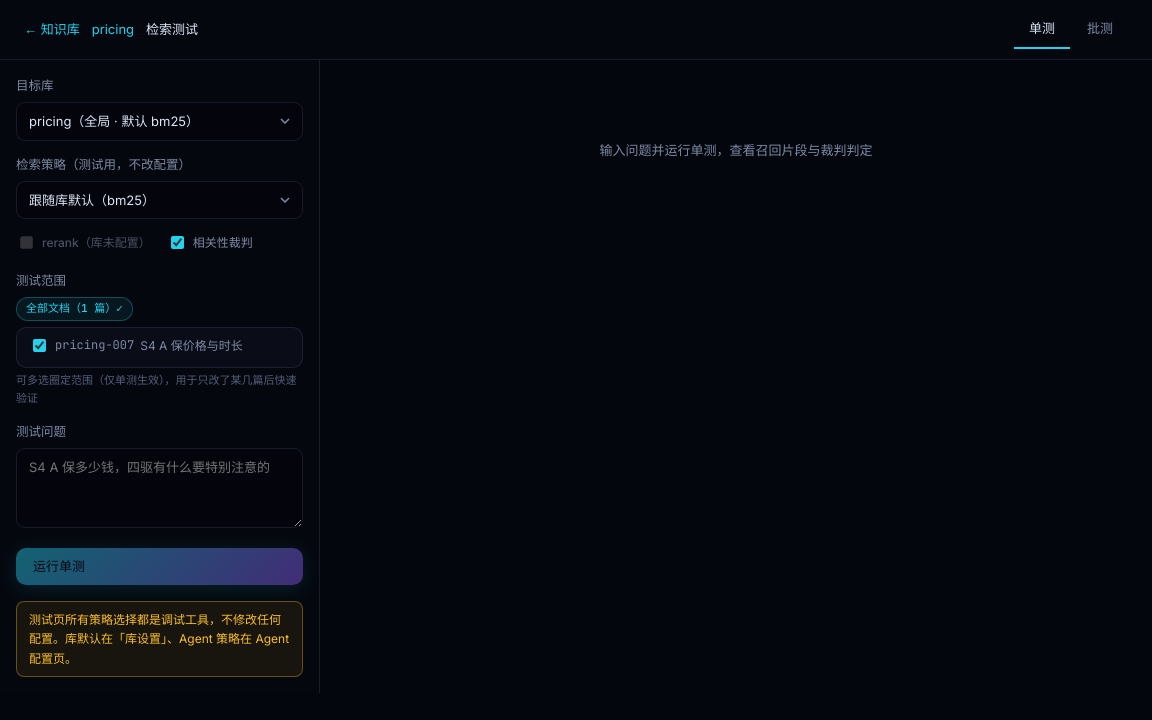
Test: KbTestPage › runs a single search and renders chunks with gate verdicts
Type "S4 A 保多少钱" into the text box named "测试问题" at (160, 488), box [16,448,303,528]
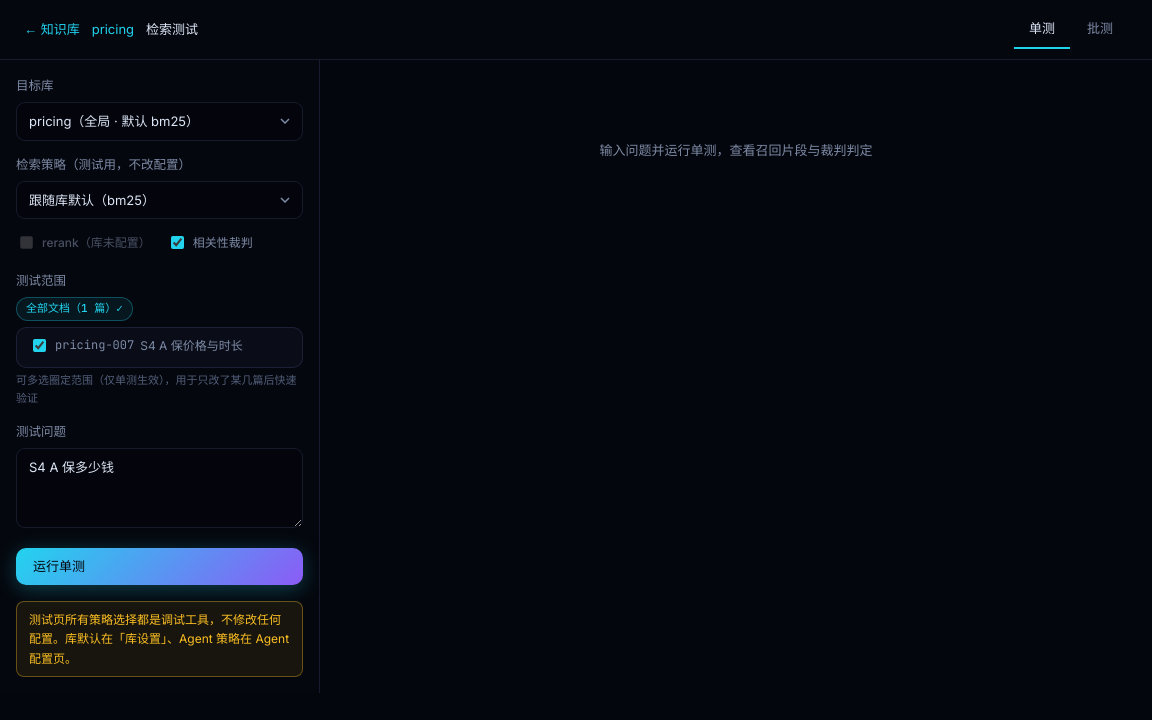
Click the button with test id "run-single" at (59, 566), box [16,548,303,585]
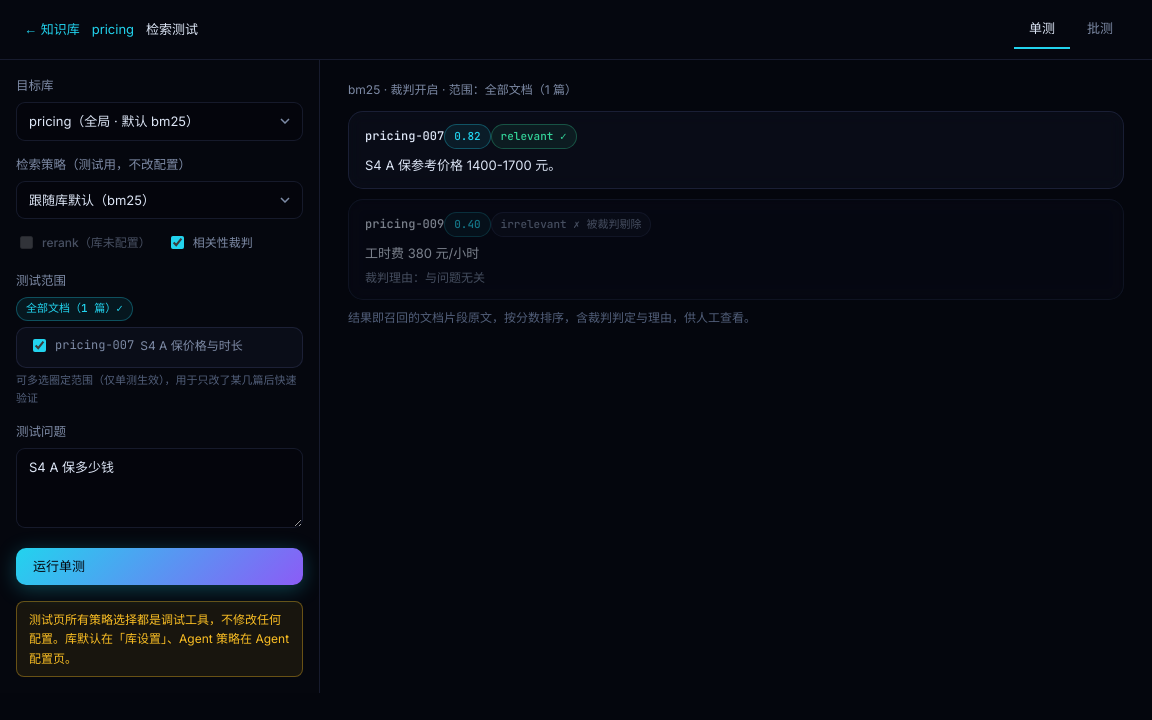
Expected: the text "relevant ✓" is shown, [491,124,577,149]
Expected: the text "irrelevant ✗ 被裁判剔除" is shown, [491,212,651,237]
Expected: the text "裁判理由：与问题无关" is shown, [365,270,485,285]
